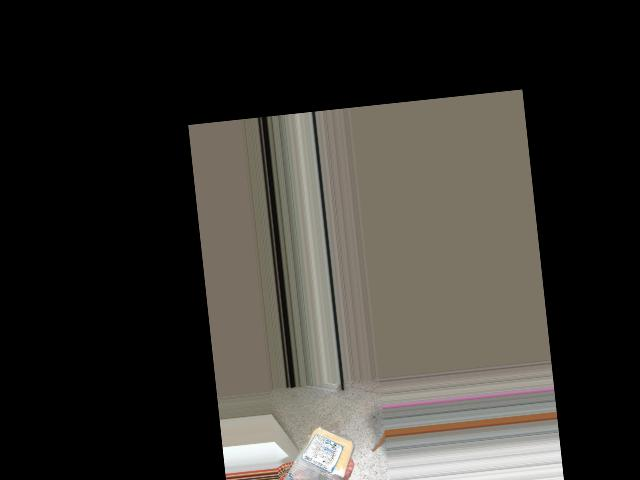cheese: (284, 421, 354, 480)
